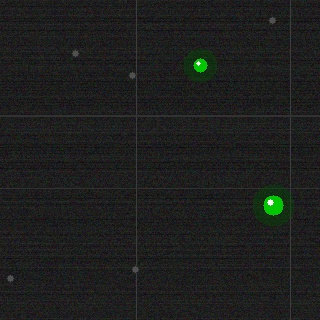green_normal: (261, 193, 285, 217), (191, 56, 209, 74)
